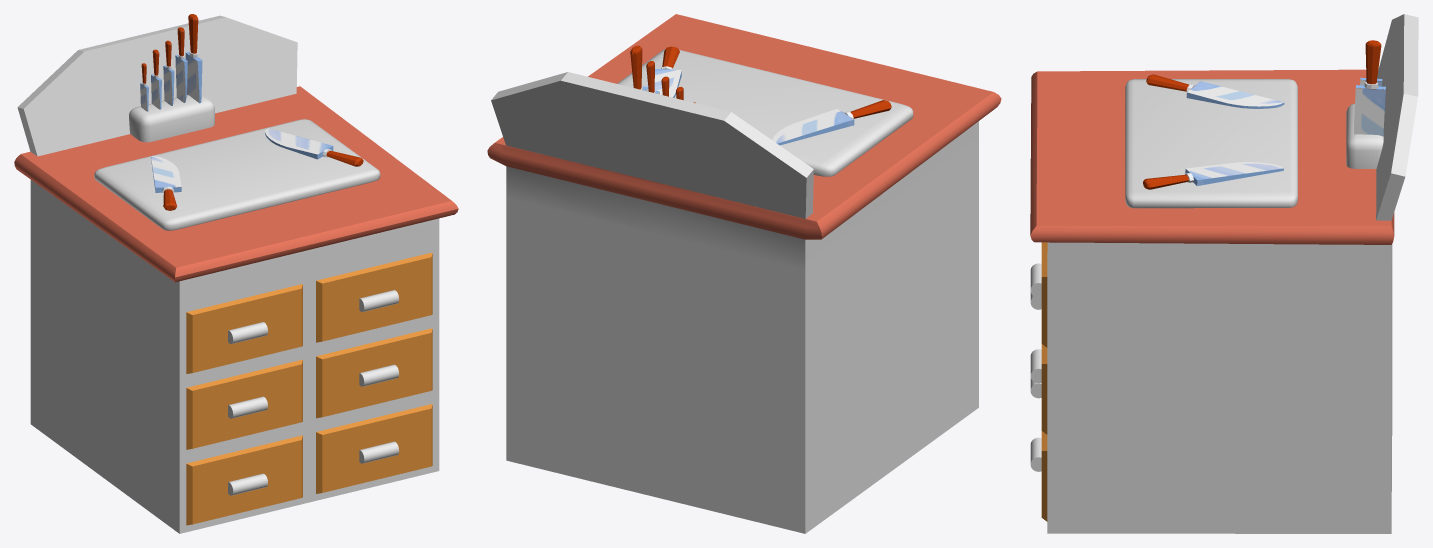
The model's file is SaladMachine.fbx.
3 renders of one model, left to right at view 1: azimuth 30°, elevation 25°; view 2: azimuth 150°, elevation 25°; view 3: azimuth 270°, elevation 25°, orthographic. The views are drawn at different scales.
Parts seen in each view (by area): view 1: Base Machine.002, Back Plate, LittleTable, Cylinder.053, KnifePlacer, Knife, Knife.001, Knife.002, Knife.006, Knife.003; view 2: Base Machine.002, Back Plate, LittleTable, Knife.001, Knife; view 3: Base Machine.002, LittleTable, Back Plate, Knife.002, Knife, Knife.001, Cylinder.053, KnifePlacer.
Boxes of the visible parts, bbox=[...] form: Base Machine.002: bbox=[14, 86, 458, 533]; Back Plate: bbox=[17, 15, 297, 156]; LittleTable: bbox=[94, 119, 380, 230]; Cylinder.053: bbox=[228, 290, 399, 495]; KnifePlacer: bbox=[129, 95, 214, 142]; Knife: bbox=[265, 128, 363, 166]; Knife.001: bbox=[151, 156, 181, 210]; Knife.002: bbox=[185, 14, 202, 103]; Knife.006: bbox=[175, 27, 187, 102]; Knife.003: bbox=[163, 40, 174, 105]; Base Machine.002: bbox=[487, 14, 1001, 533]; Back Plate: bbox=[491, 72, 813, 218]; LittleTable: bbox=[617, 49, 913, 176]; Knife.001: bbox=[772, 100, 891, 145]; Knife: bbox=[647, 46, 681, 97]; Base Machine.002: bbox=[1030, 69, 1394, 533]; LittleTable: bbox=[1125, 79, 1297, 208]; Back Plate: bbox=[1376, 14, 1418, 220]; Knife.002: bbox=[1354, 40, 1385, 136]; Knife: bbox=[1143, 162, 1283, 189]; Knife.001: bbox=[1146, 74, 1284, 108]; Cylinder.053: bbox=[1030, 263, 1041, 471]; KnifePlacer: bbox=[1346, 103, 1383, 168].
Size of the model in its own units: 379 by 472 by 383.
